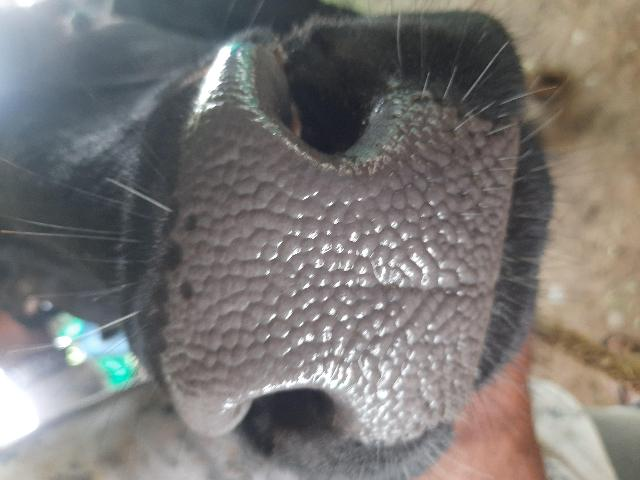Muzzle: (183, 120, 507, 388)
